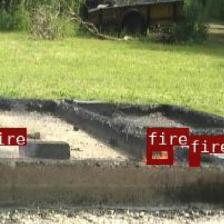fire: (146, 145, 172, 163), (188, 152, 199, 164)
